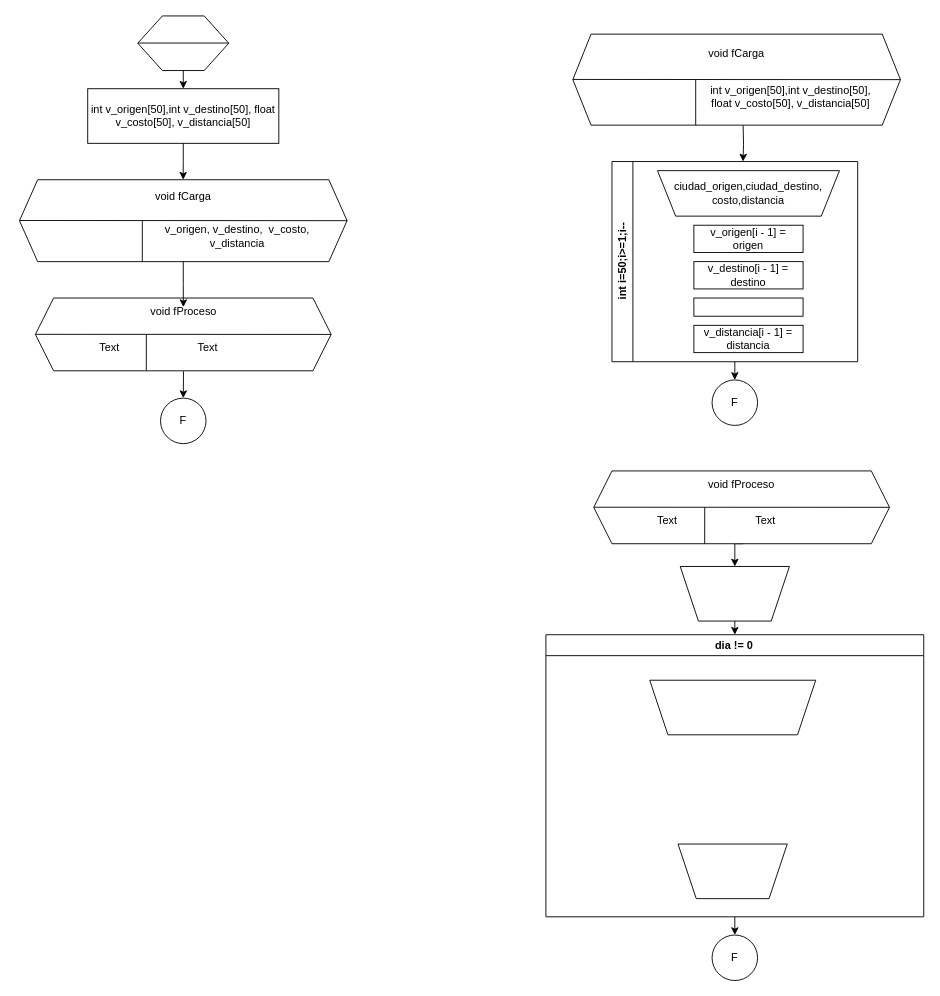
Image size: 940x996. Some labels were removed from this diagram. The shapes that lost their labels are listed below. From the top down, each one's centre as x and y in pixels, then its label:
At (183,43): "void main".
At (748,306): "v_costo[i - 1] = costo".
At (734,593): "nro_cliente, cod_vuelo,dia".
At (732,707): "mes, cant_pasajes,nro_vendedor".
At (732,871): "nro_cliente, cod_vuelo, ,dia".
